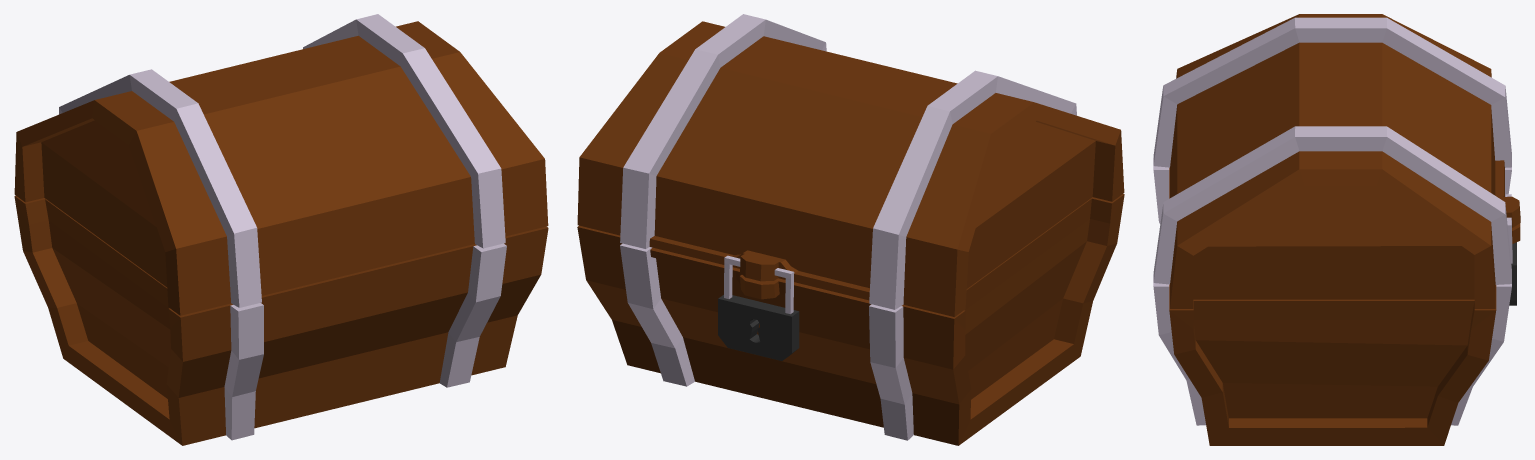
File: Chest.fbx
The picture shows the model from 3 angles, left to right: view 1: azimuth 30°, elevation 25°; view 2: azimuth 150°, elevation 25°; view 3: azimuth 270°, elevation 25°; orthographic projection. The views are drawn at different scales.
Parts seen in each view (by area): view 1: Head, Chest; view 2: Head, Chest; view 3: Head, Chest.
Part boxes in pixels (x1=…): Head: x1=14, y1=14, x2=548, y2=315; Chest: x1=14, y1=195, x2=548, y2=445; Head: x1=577, y1=14, x2=1124, y2=360; Chest: x1=577, y1=194, x2=1124, y2=445; Head: x1=1153, y1=14, x2=1520, y2=308; Chest: x1=1153, y1=158, x2=1520, y2=445.
Bounding box in the file's own units: 98.22 × 74.33 × 84.88.
